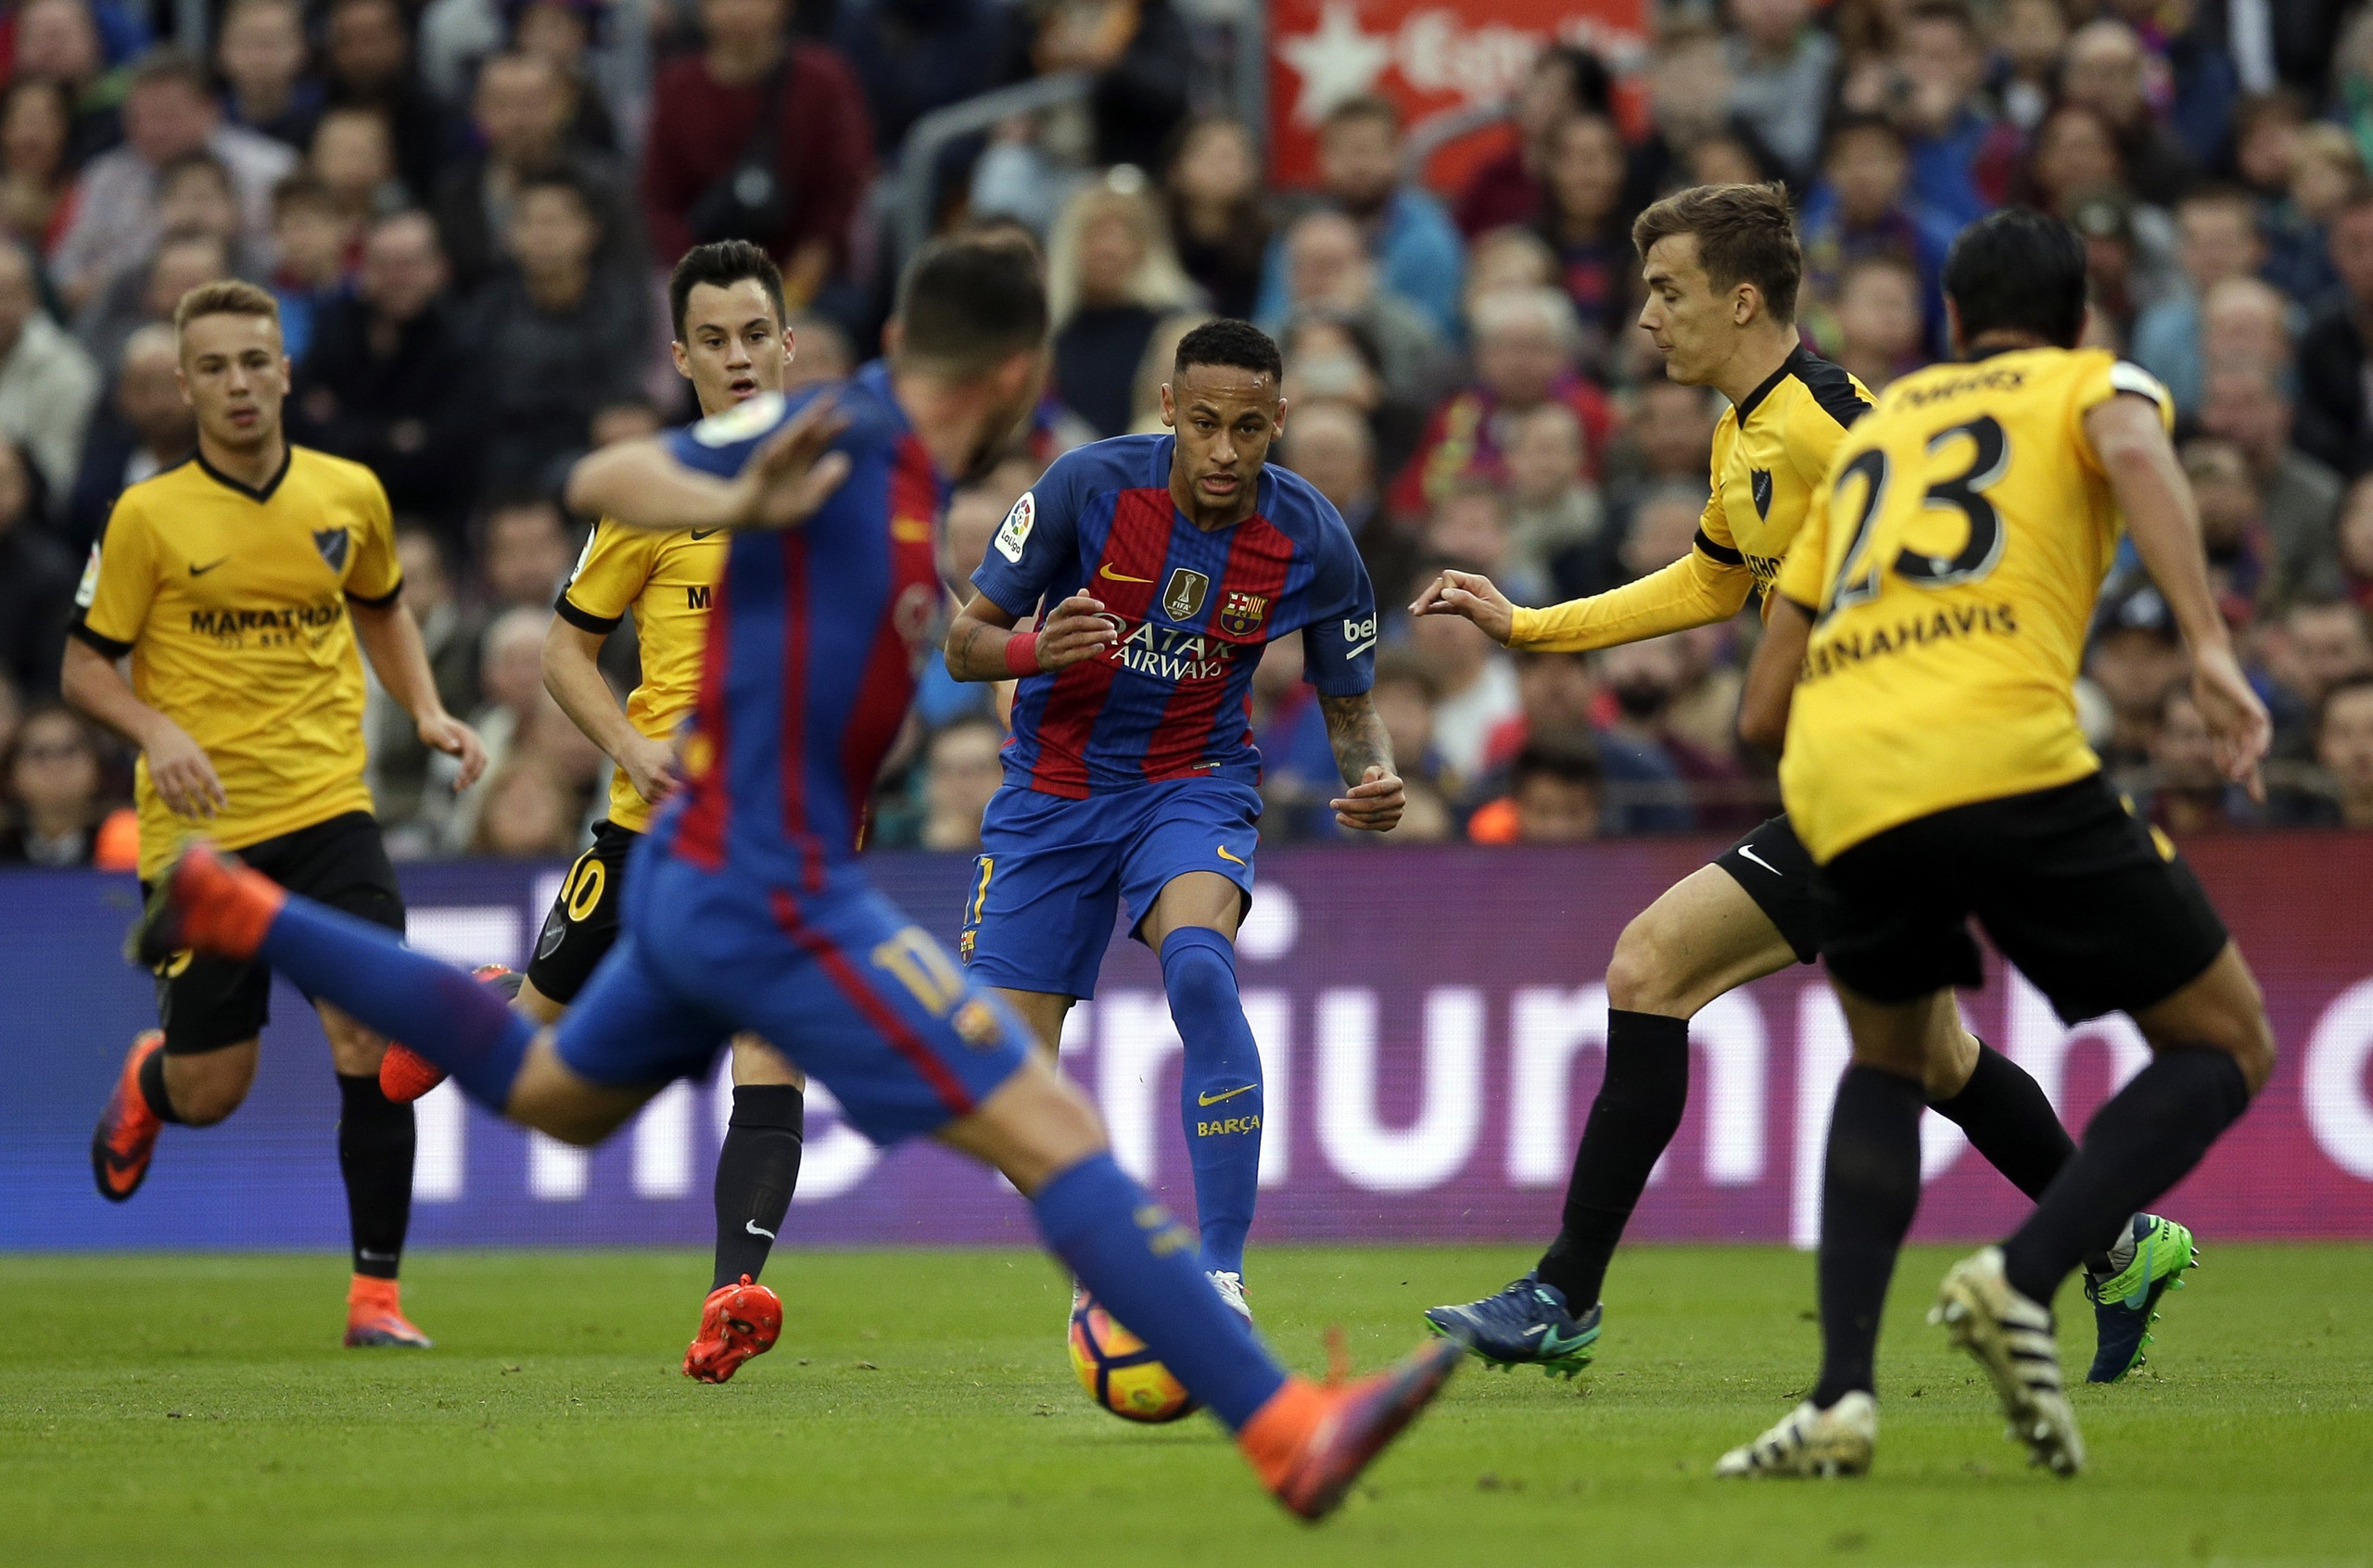soccer player: (105, 237, 1458, 1510), (1405, 159, 2209, 1410), (1741, 247, 2282, 1527), (942, 300, 1390, 1295), (52, 265, 446, 1364), (489, 259, 857, 1417)
soccerball: (1052, 1279, 1202, 1435)
